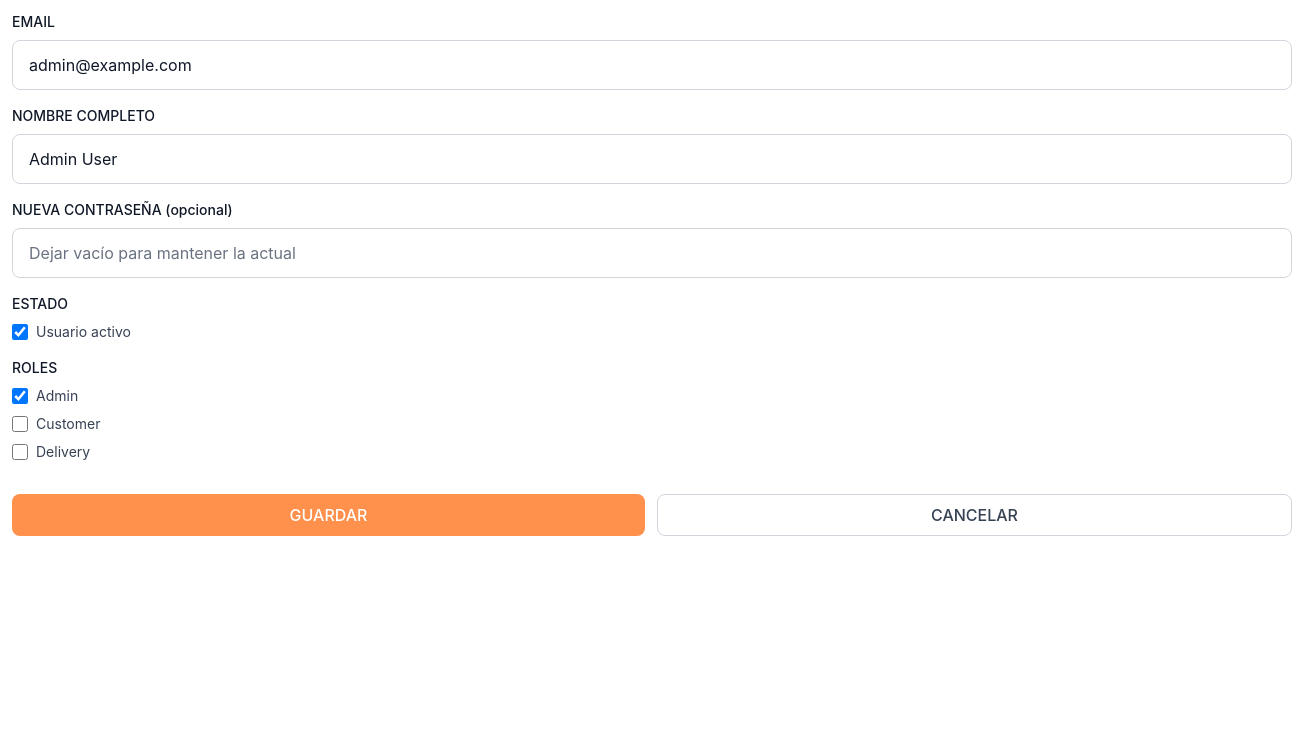
Test: EditUserForm › Form Validation › should show validation error for weak password
Type "weakpass" into the password field with placeholder "Dejar vacío para mantener la actual" at point(652, 253), box [12, 228, 1292, 278]
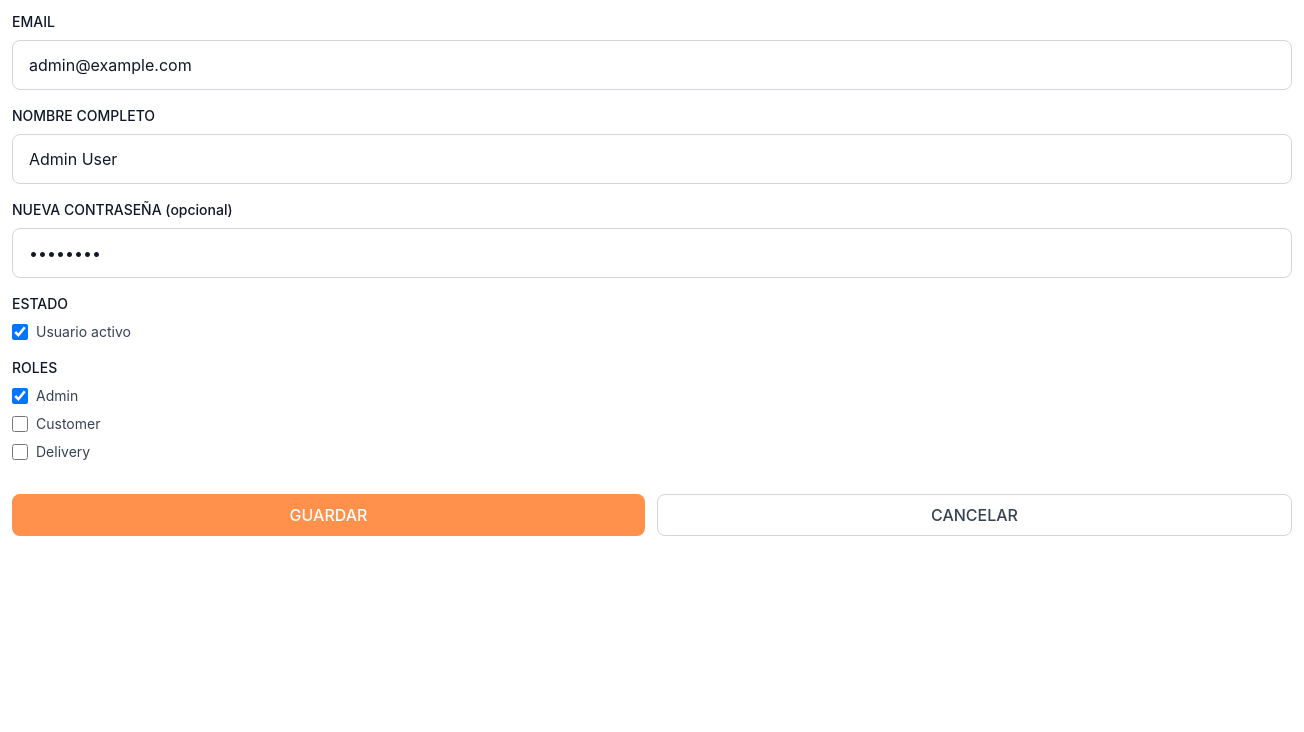
Click the button "GUARDAR" at point(328, 515), box [12, 494, 645, 536]
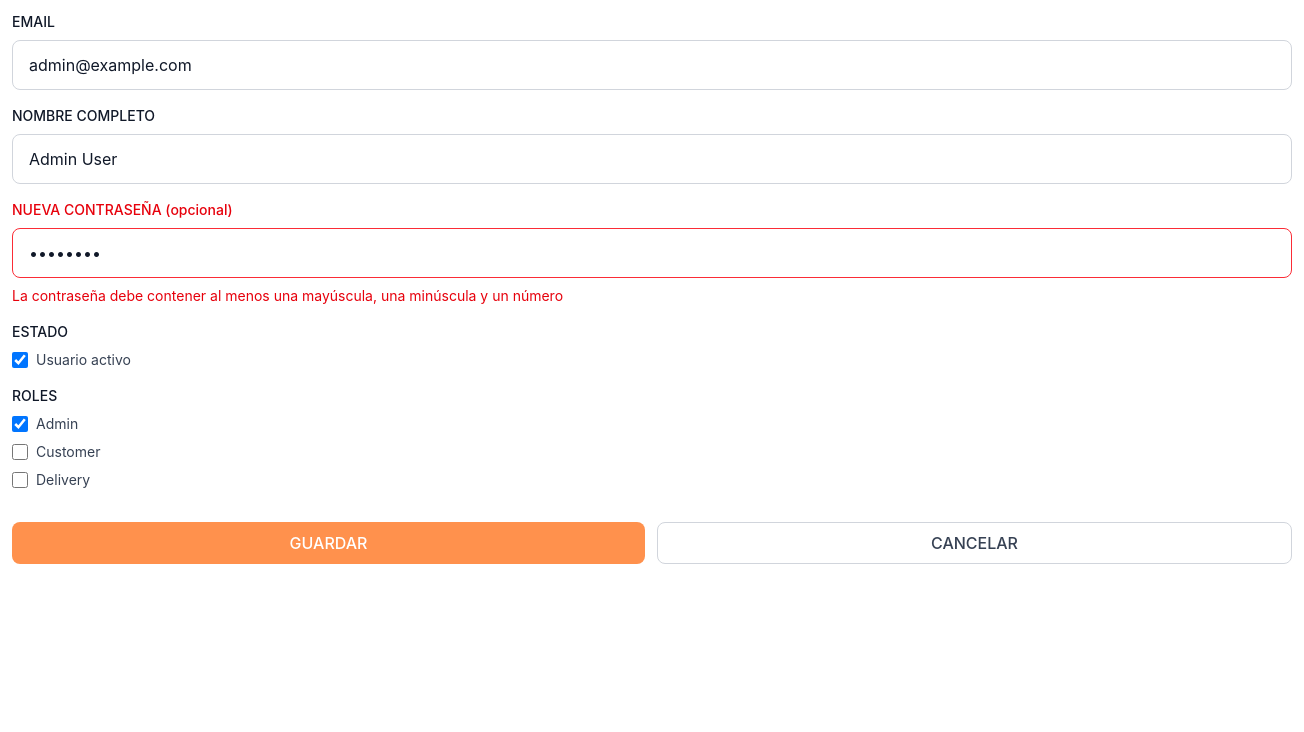
Result: the text "La contraseña debe contener al menos una mayúscula, una minúscula y un número" is shown at [12, 287, 563, 304]
